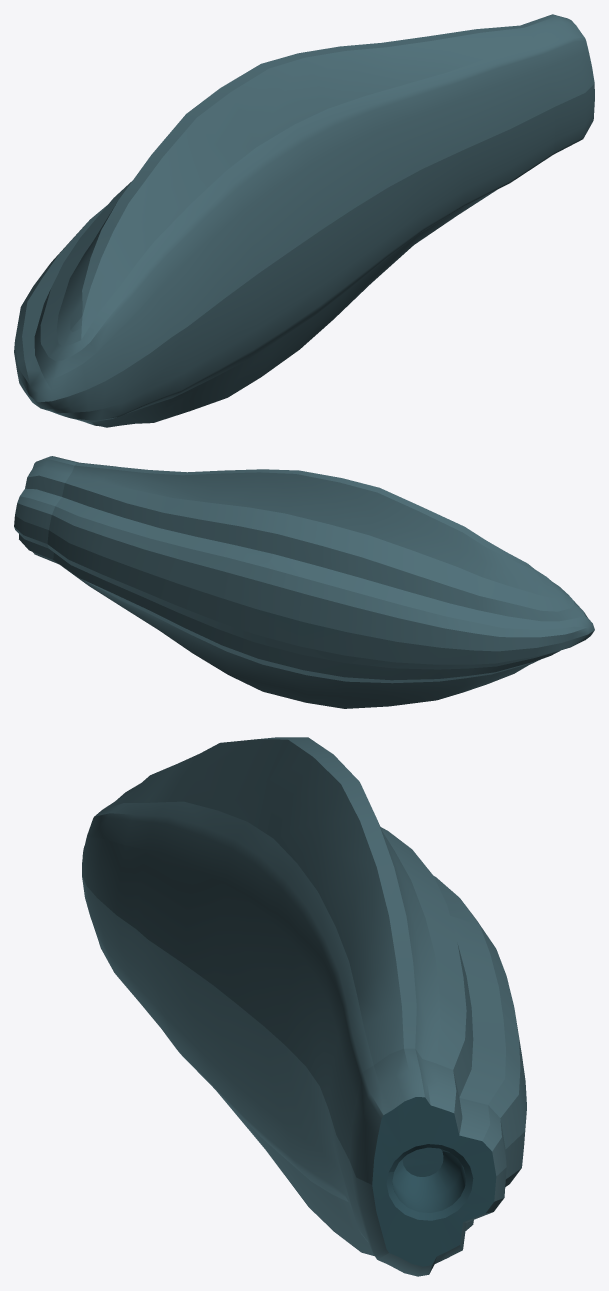
Rendered from DelIzq.obj.
3 renders of one model, top to bottom at view 1: azimuth 30°, elevation 25°; view 2: azimuth 150°, elevation 25°; view 3: azimuth 270°, elevation 25°, orthographic. The views are drawn at different scales.
Parts seen in each view (by area): view 1: Mosasaurs:polySurface4 Mosasaurs:Mesh; view 2: Mosasaurs:polySurface4 Mosasaurs:Mesh; view 3: Mosasaurs:polySurface4 Mosasaurs:Mesh.
Part boxes in pixels (x1,y1,x2,y2): Mosasaurs:polySurface4 Mosasaurs:Mesh: (14, 14, 594, 427); Mosasaurs:polySurface4 Mosasaurs:Mesh: (14, 456, 594, 708); Mosasaurs:polySurface4 Mosasaurs:Mesh: (82, 737, 526, 1276).
Size of the model in its own units: 4.82 by 2.18 by 1.9.
Materials: 1 (1 with a texture image).
